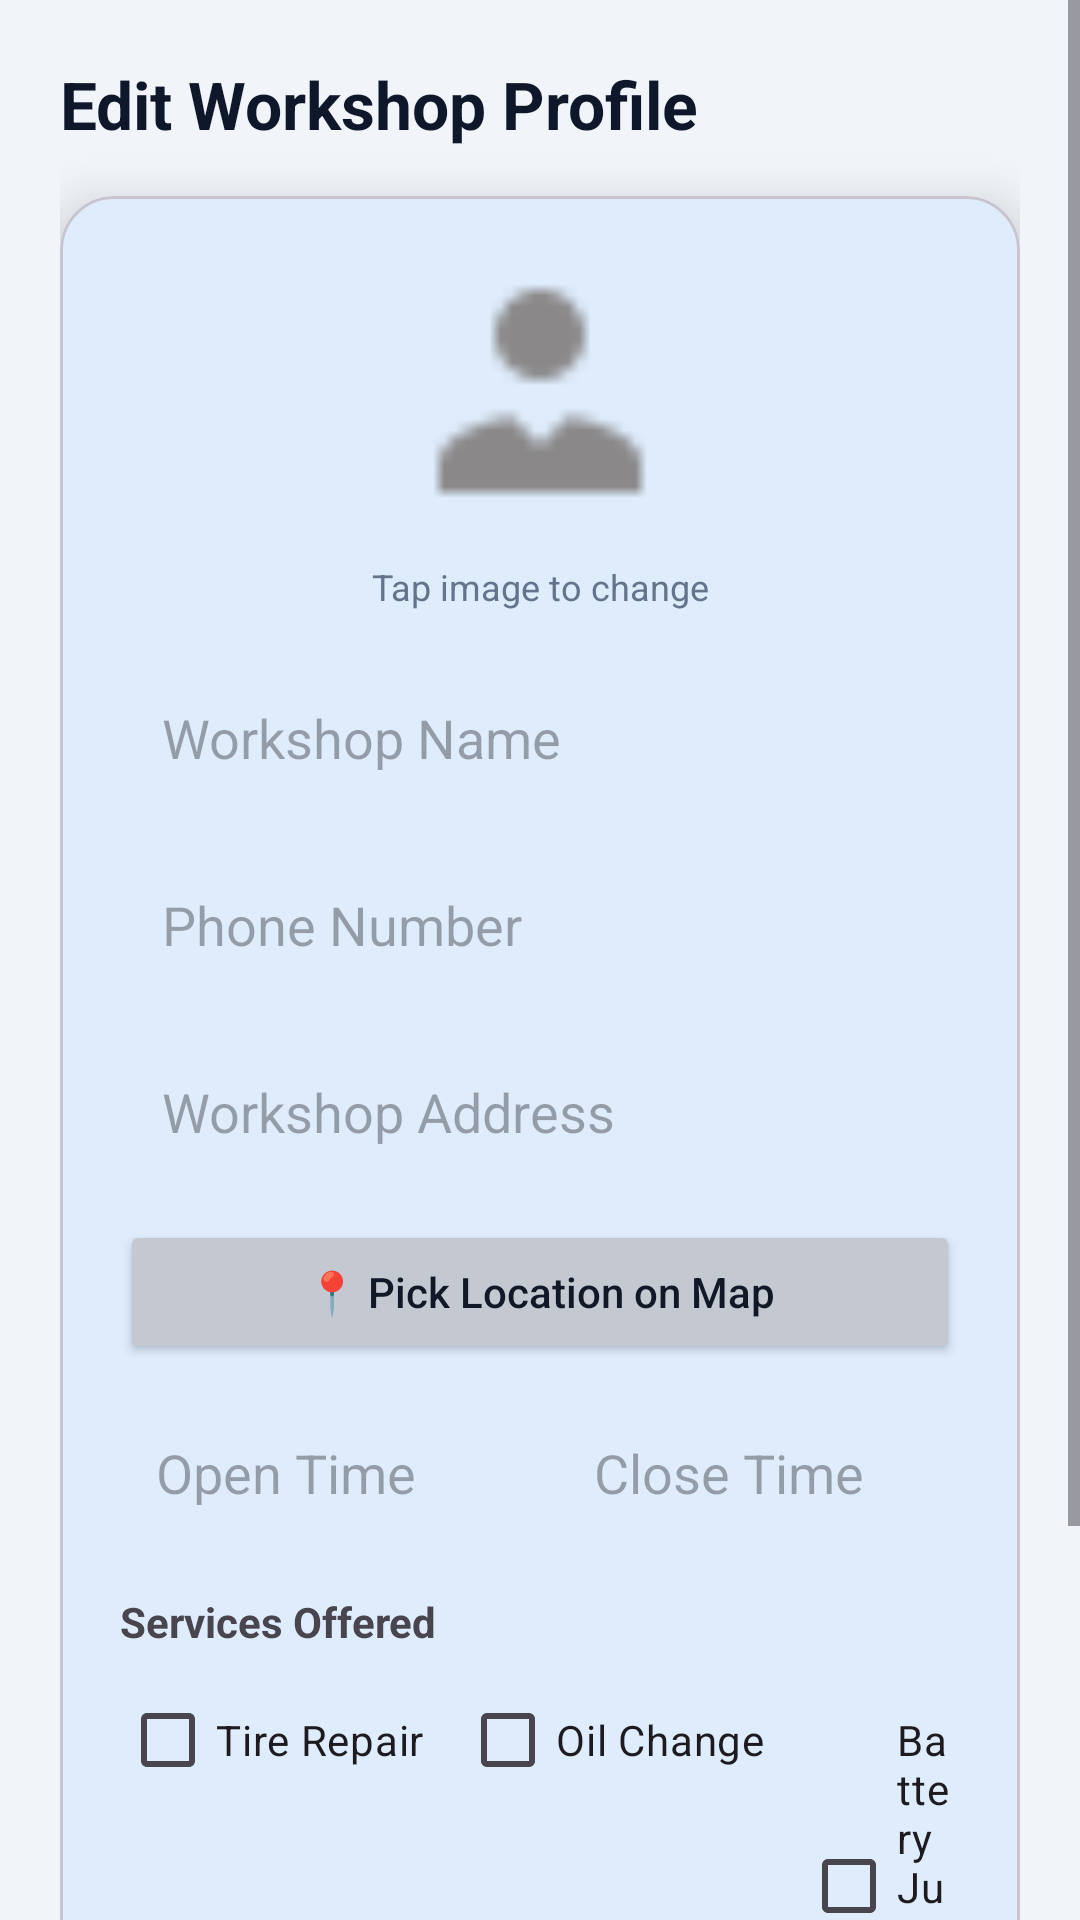

Screen size 1080w x 1920h. Icon name, then its center in pixels as (x=x, y=y):
user: (x=540, y=391)
